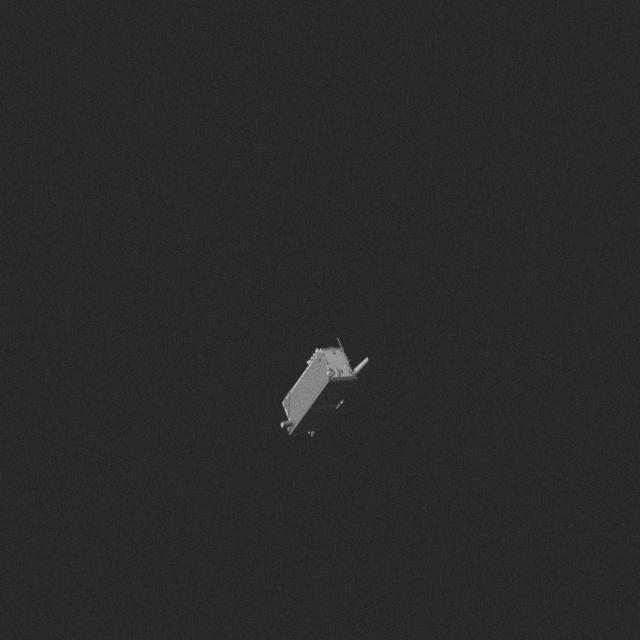medium_debris: (276, 336, 382, 440)
